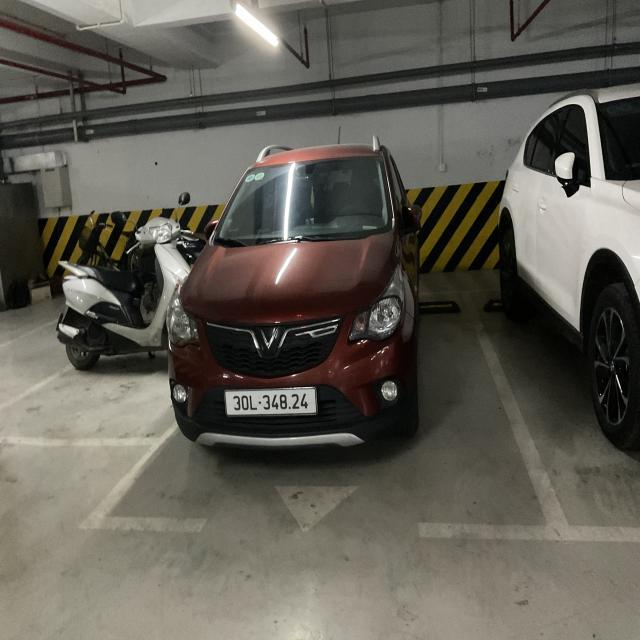license: (223, 385, 318, 417)
